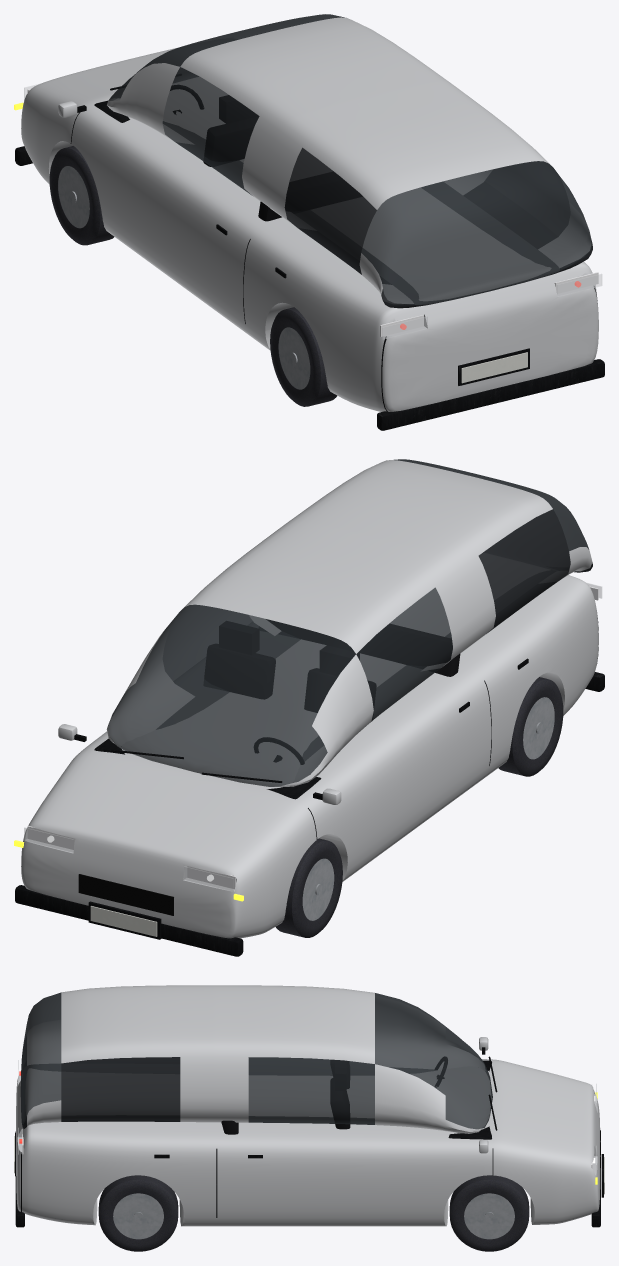
Rendered from minivan_silver.gltf.
3 views of the same model, one above another, from view 1: azimuth 30°, elevation 25°; view 2: azimuth 150°, elevation 25°; view 3: azimuth 270°, elevation 25° (orthographic). The views are drawn at different scales.
Visible parts, largest first — view 1: minivan_silver; view 2: minivan_silver; view 3: minivan_silver.
Part boxes in pixels (x1,y1,x2,y2): minivan_silver: (14, 14, 604, 430); minivan_silver: (14, 459, 604, 956); minivan_silver: (14, 985, 604, 1251).
Bounding box in the file's own units: 2.2 × 1.82 × 5.05.
Materials: 17 (8 with a texture image).
